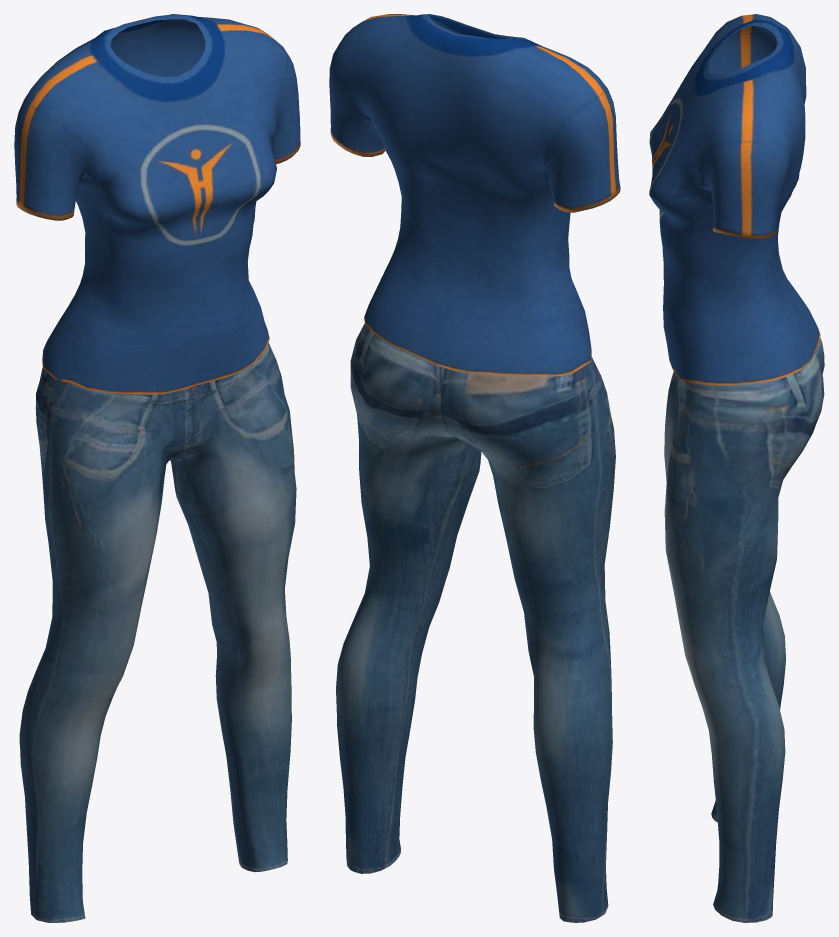
File: female-casualsuit01.glb
The picture shows the model from 3 angles, left to right: view 1: azimuth 30°, elevation 25°; view 2: azimuth 150°, elevation 25°; view 3: azimuth 270°, elevation 25°; orthographic projection. The views are drawn at different scales.
Visible parts, largest first — view 1: Human.female_casualsuit01; view 2: Human.female_casualsuit01; view 3: Human.female_casualsuit01.
Part boxes in pixels (left/top/right/bottom): Human.female_casualsuit01: left=14, top=14, right=300, bottom=922; Human.female_casualsuit01: left=329, top=14, right=620, bottom=922; Human.female_casualsuit01: left=649, top=14, right=824, bottom=922.
Bounding box in the file's own units: 0.4443 × 1.32 × 0.2537.
1 material, 1 textured.
